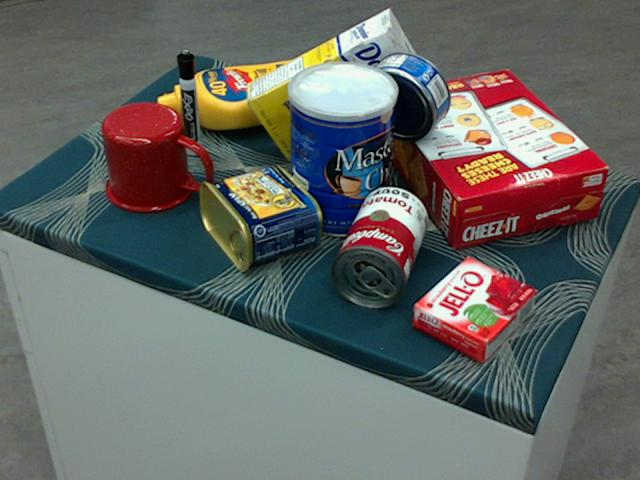cracker_box: (374, 68, 606, 248)
gelatin_box: (412, 256, 535, 360)
large_marker: (174, 50, 202, 155)
master_chef_can: (286, 62, 396, 239)
mug: (101, 102, 210, 213)
mustard_bottle: (155, 57, 328, 129)
potted_meat_can: (196, 164, 321, 272)
sugar_box: (243, 9, 430, 162)
tomato_soup_can: (328, 185, 429, 306)
tuna_fish_can: (361, 49, 450, 139)
